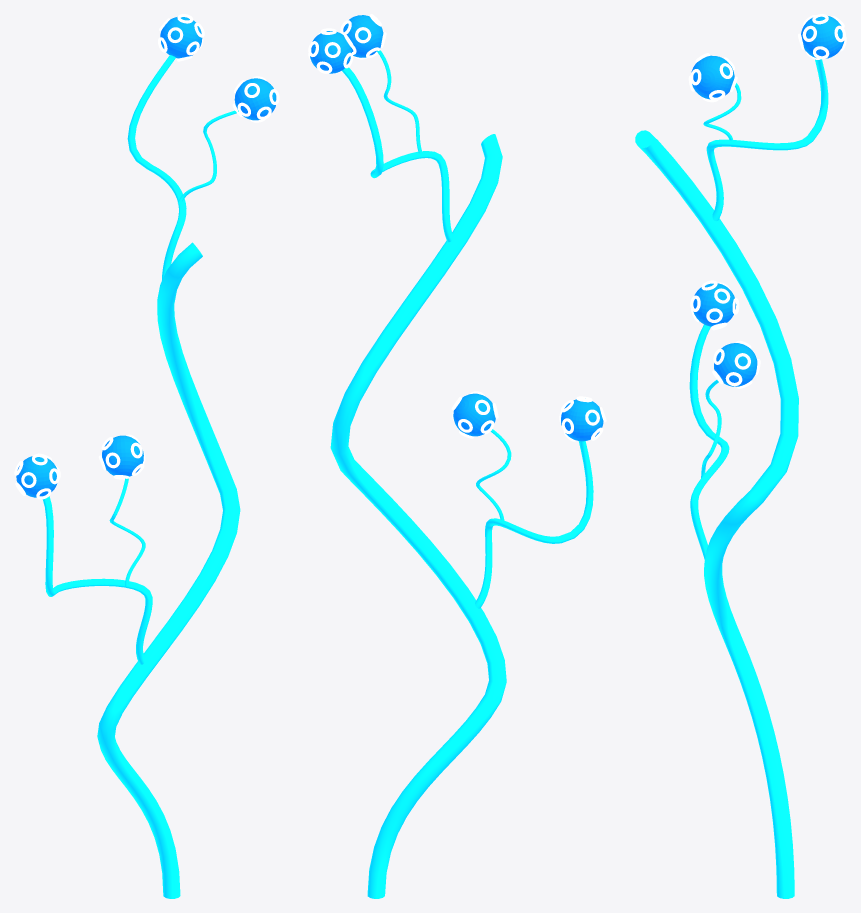
File: Grass2.glb
3 renders of one model, left to right at view 1: azimuth 30°, elevation 25°; view 2: azimuth 150°, elevation 25°; view 3: azimuth 270°, elevation 25°, orthographic. The views are drawn at different scales.
Visible parts, largest first — view 1: BézierCurve; view 2: BézierCurve; view 3: BézierCurve.
Part boxes in pixels (left/top/right/bottom): BézierCurve: left=14, top=14, right=279, bottom=898; BézierCurve: left=308, top=14, right=606, bottom=898; BézierCurve: left=635, top=14, right=846, bottom=898.
Size of the model in its own units: 1.35 by 4.3 by 0.923.
